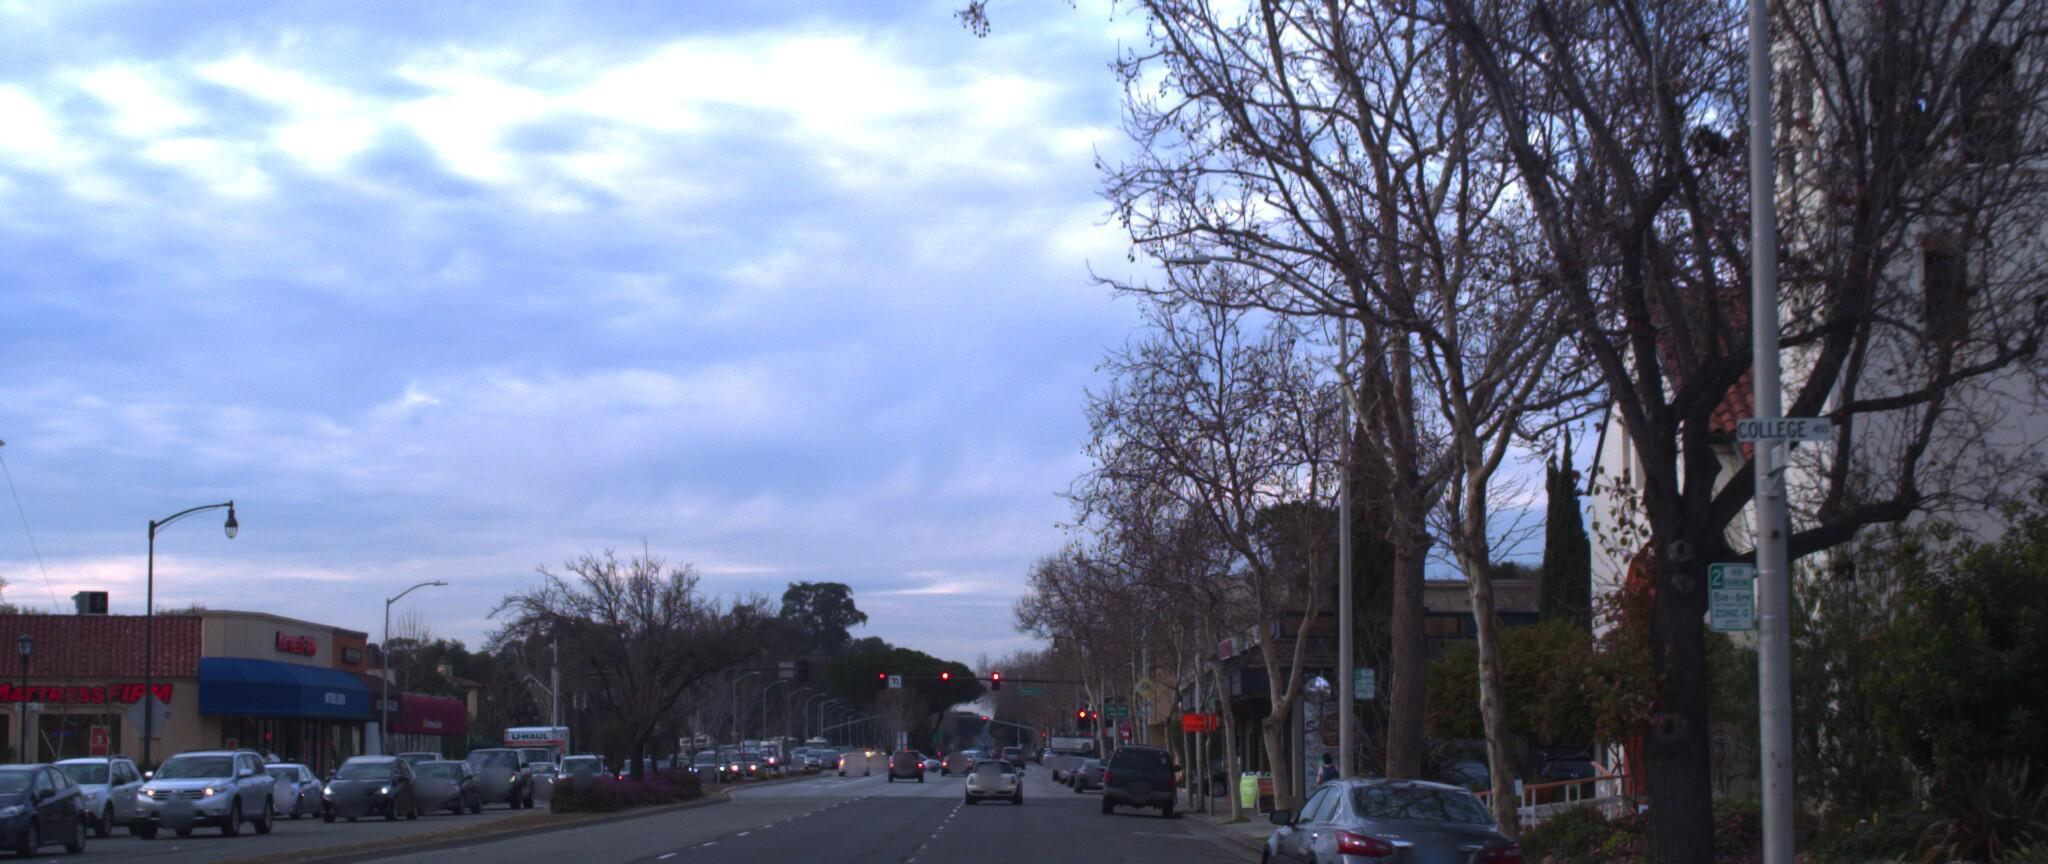car: (1243, 778, 1539, 864), (119, 745, 281, 843), (10, 749, 167, 830), (0, 762, 99, 864), (1093, 745, 1170, 820)
